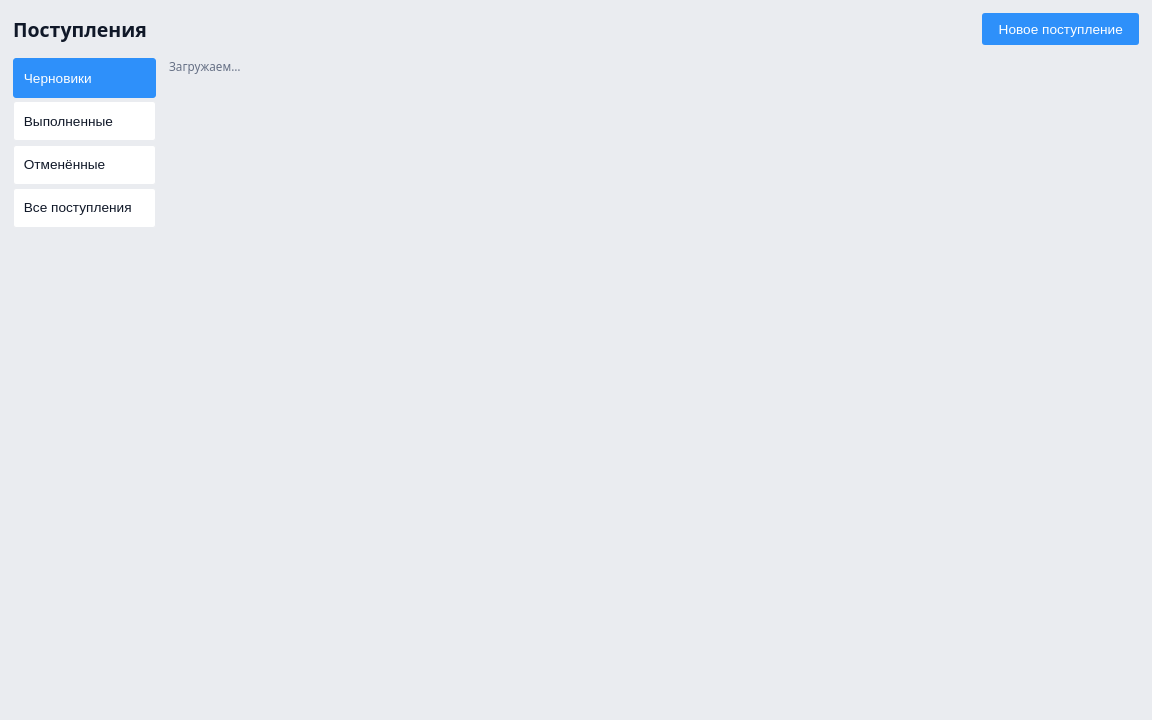
Test: поступления › «+ Новая поставка»: «Добавить» неактивна без названия, поставка выбирается
Click the button "Новое поступление".
click(1061, 29)  # box [982,13,1139,45]
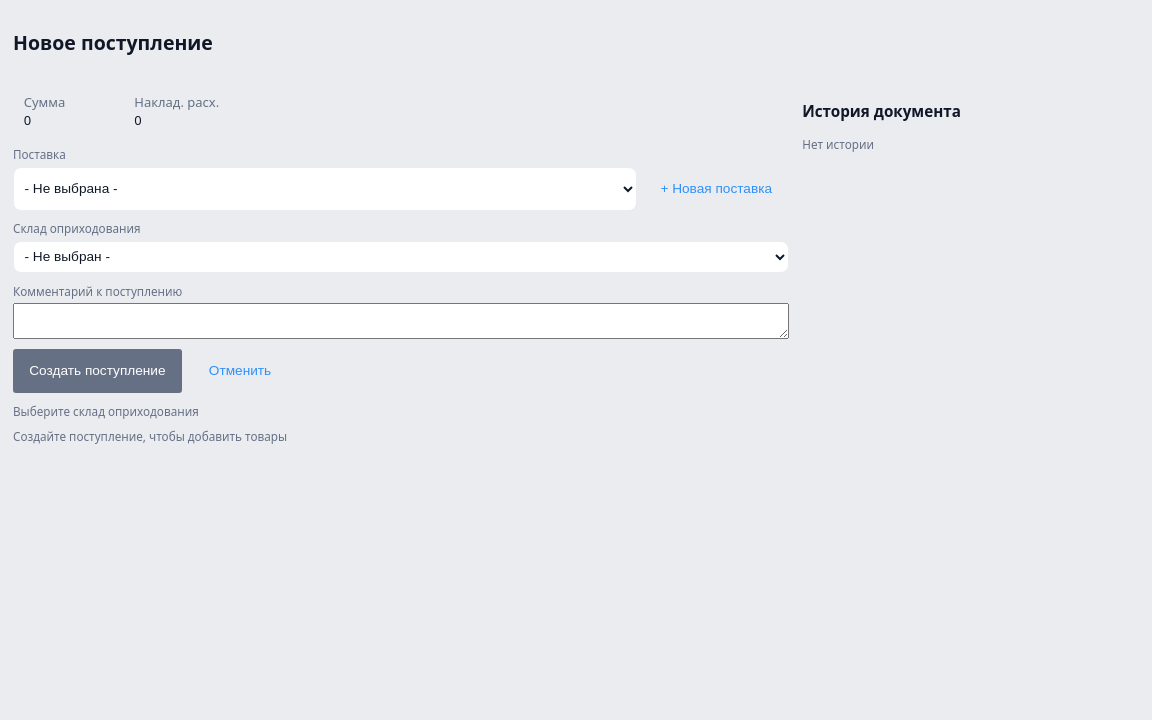
Click the button "+ Новая поставка".
click(716, 189)  # box [643,167,789,211]
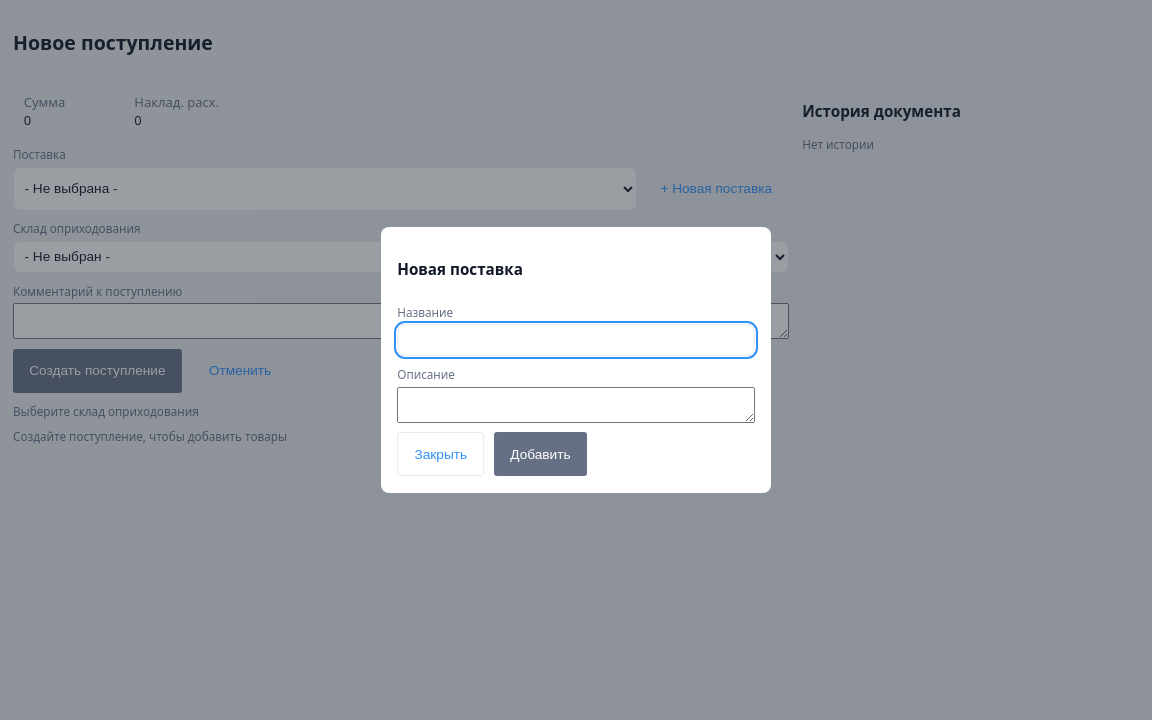
Result: the submit button reads "Добавить" at [494,432,587,476]
Result: the submit button is disabled at [494,432,587,476]
Result: the button "Закрыть" is shown at [397,432,484,476]
Type "Иванов" into the field labelled "Название".
click(576, 340); type("Иванов")  # box [397,324,755,356]
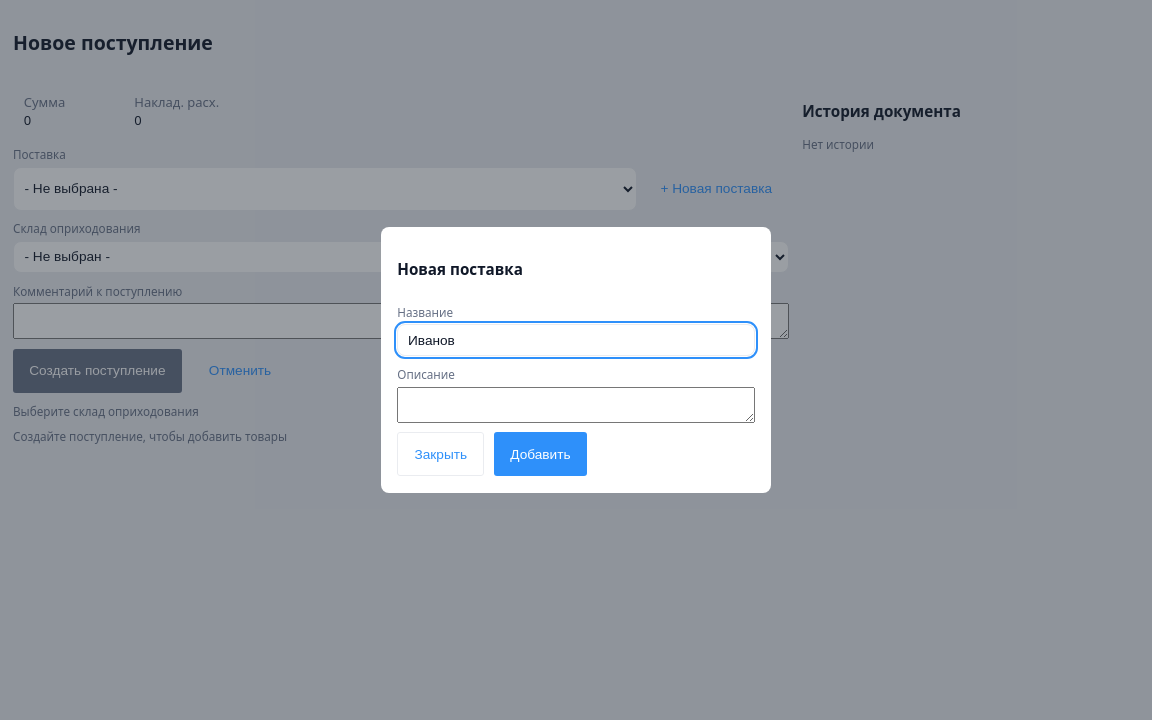
Type "кузовщина" into the text box labelled "Описание".
click(576, 405); type("кузовщина")  # box [397,387,755,423]
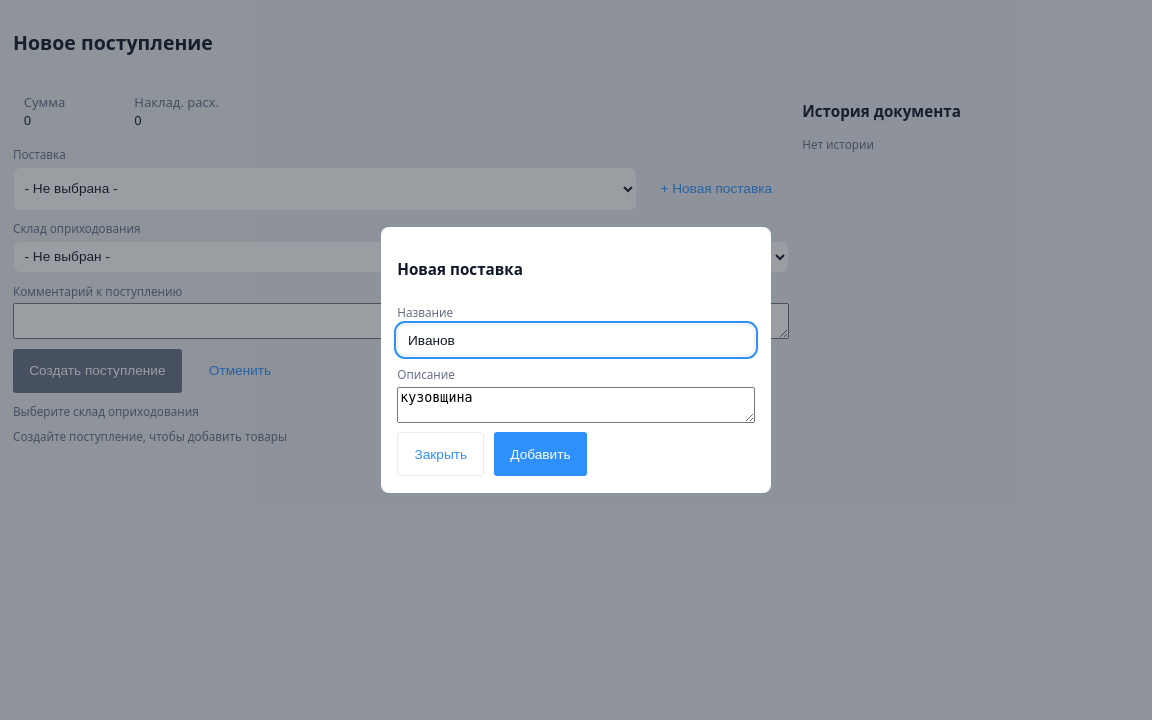
Click the submit button.
click(540, 454)  # box [494,432,587,476]
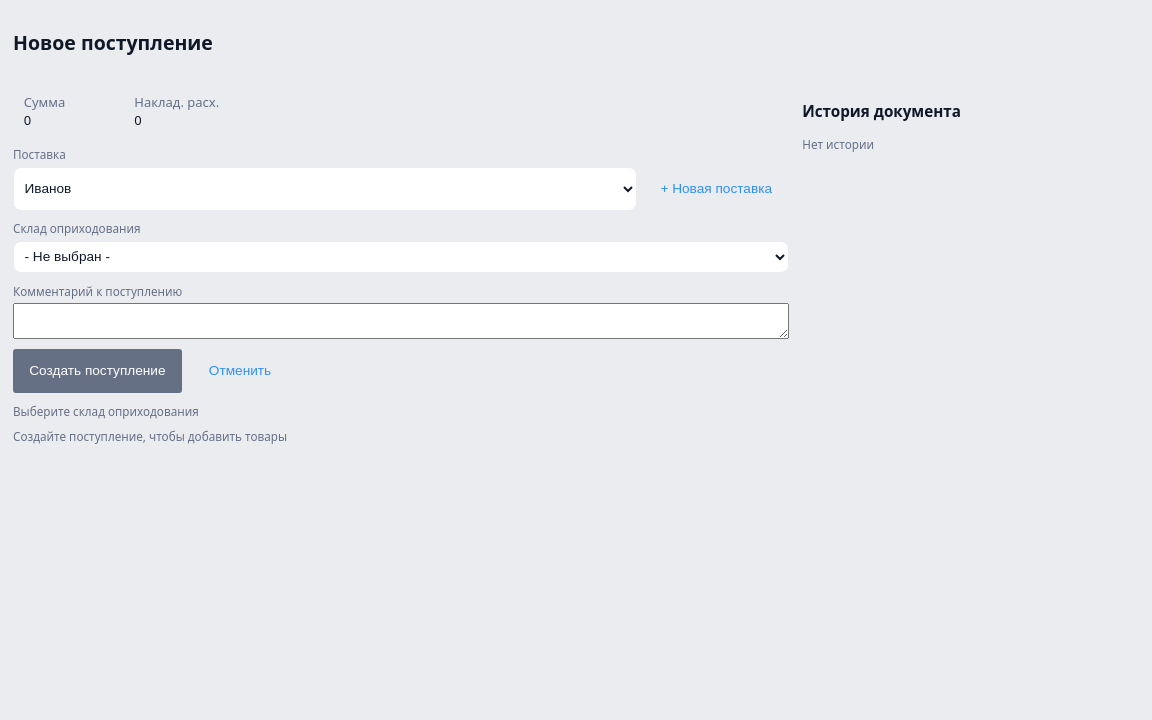
Result: the dialog is gone
Result: the dropdown labelled "Поставка" shows "Иванов" at [13,167,637,211]
